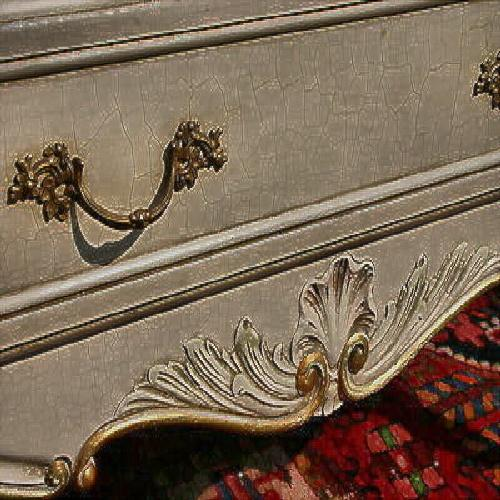cabinet: (10, 13, 496, 463)
